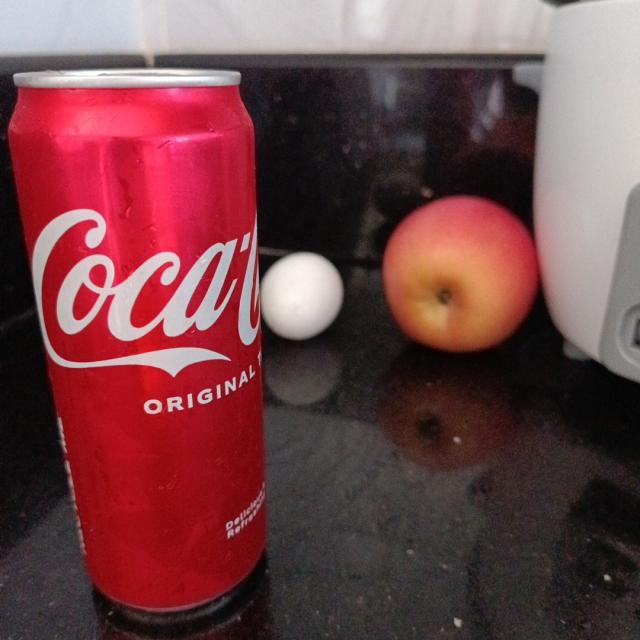apple: (385, 201, 534, 342)
coke: (5, 67, 268, 608)
egg: (260, 253, 344, 340)
